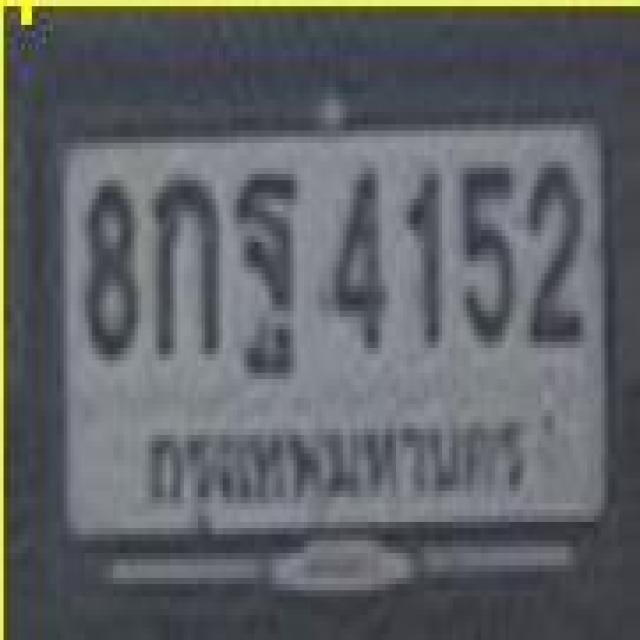license_plate: (37, 94, 624, 598)
